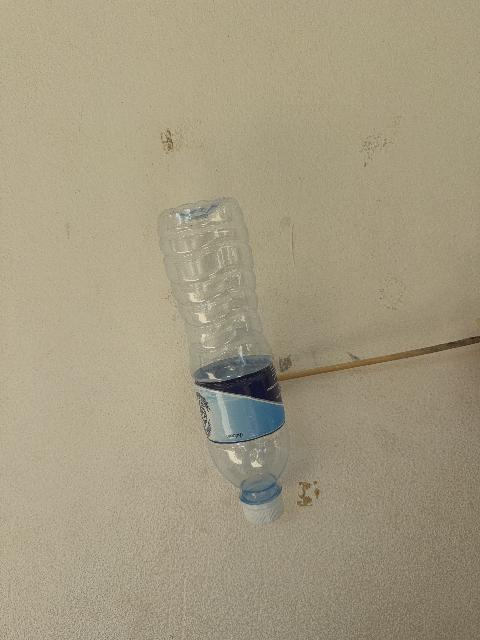bottle: (158, 198, 289, 523)
